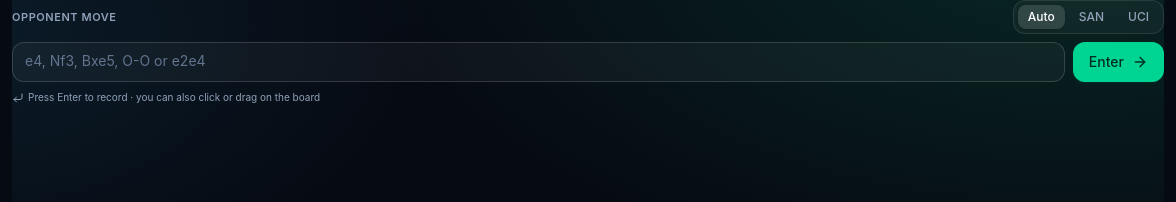
Scenario: MoveInput › shows a validation error and suggestions for an illegal move
In the field labelled "Opponent move": (538, 62) x1=12 y1=42 x2=1065 y2=82, type "e5"
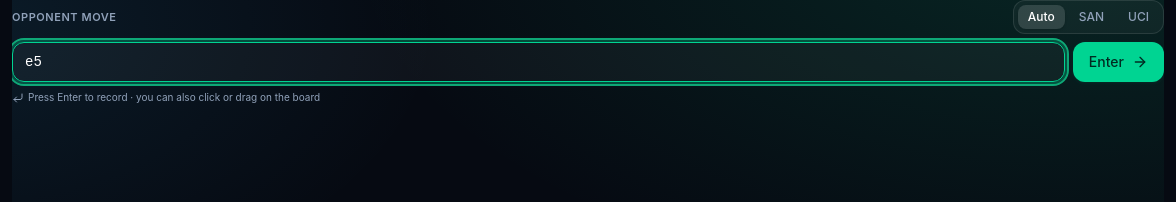
Click the button "Enter": (1118, 62) x1=1073 y1=42 x2=1164 y2=82
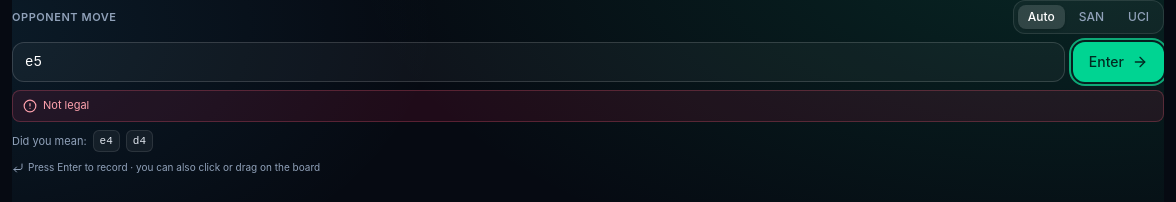
expect the message reads "Not legal": met, box x1=43 y1=98 x2=89 y2=112
expect the button "d4" is shown: met, box x1=126 y1=130 x2=153 y2=152
